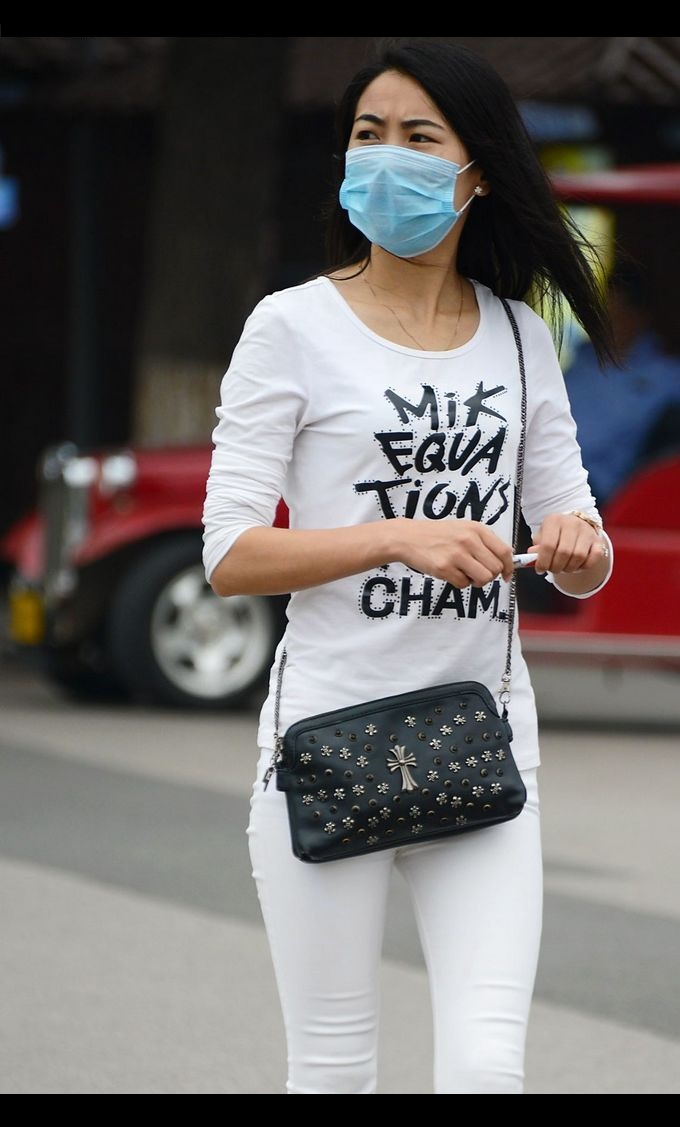face_mask: (347, 70, 462, 262)
